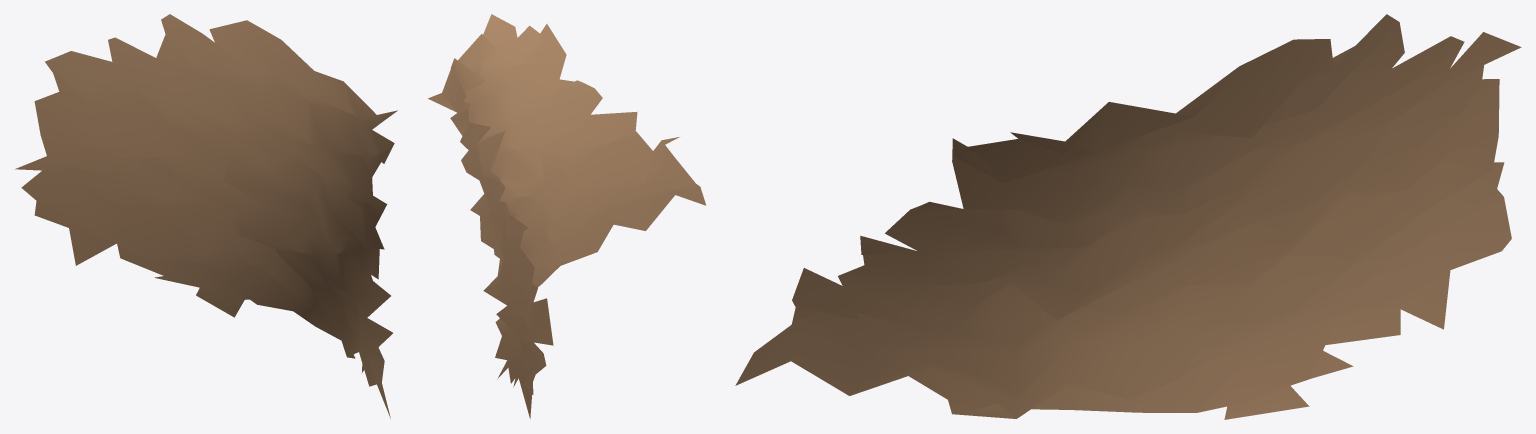
Rendered from pottery_fragment_085.obj.
3 renders of one model, left to right at view 1: azimuth 30°, elevation 25°; view 2: azimuth 150°, elevation 25°; view 3: azimuth 270°, elevation 25°, orthographic. The views are drawn at different scales.
Size of the model in its own units: 8.67 by 10.24 by 17.96.
